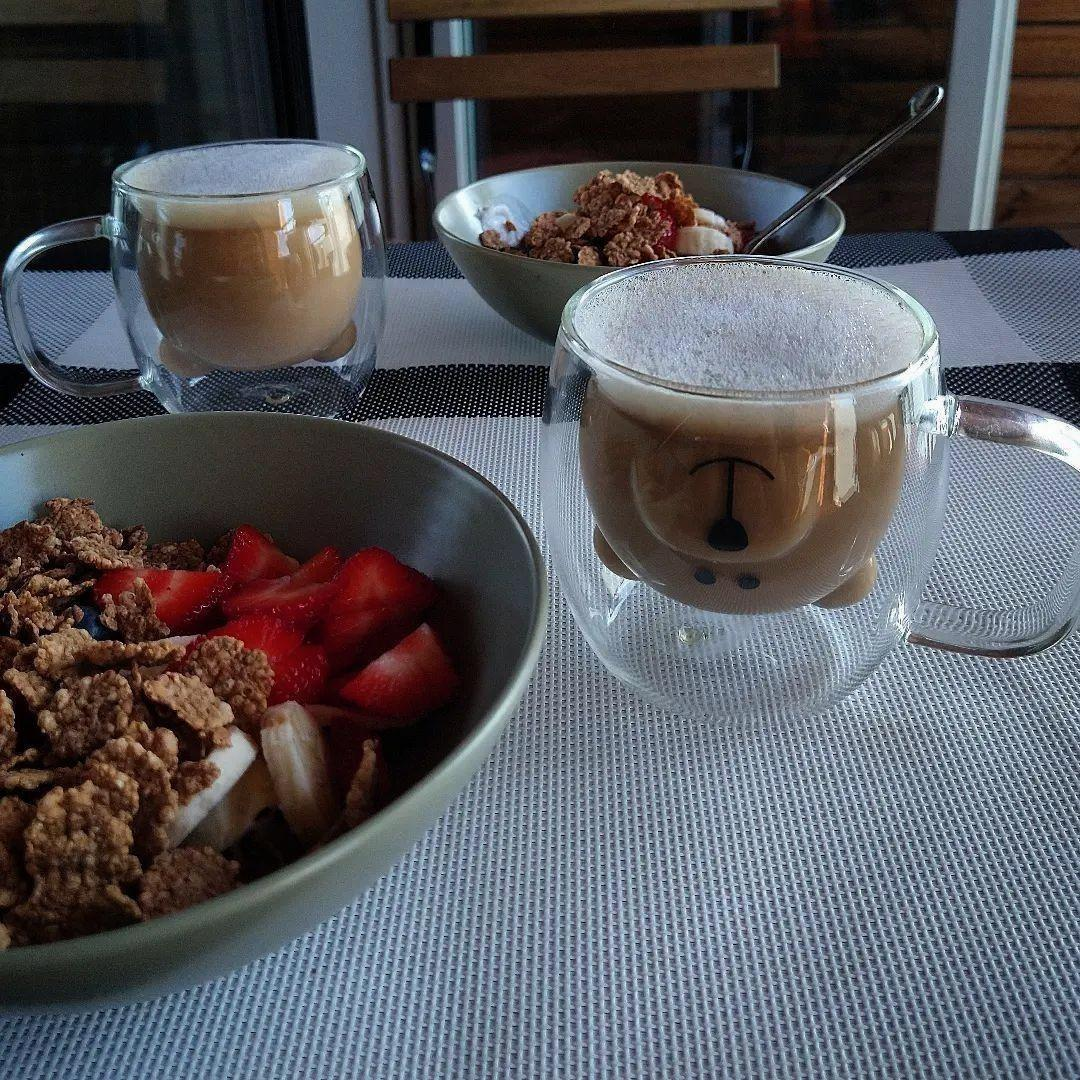glass-mug: (536, 251, 1080, 740), (7, 125, 398, 441)
